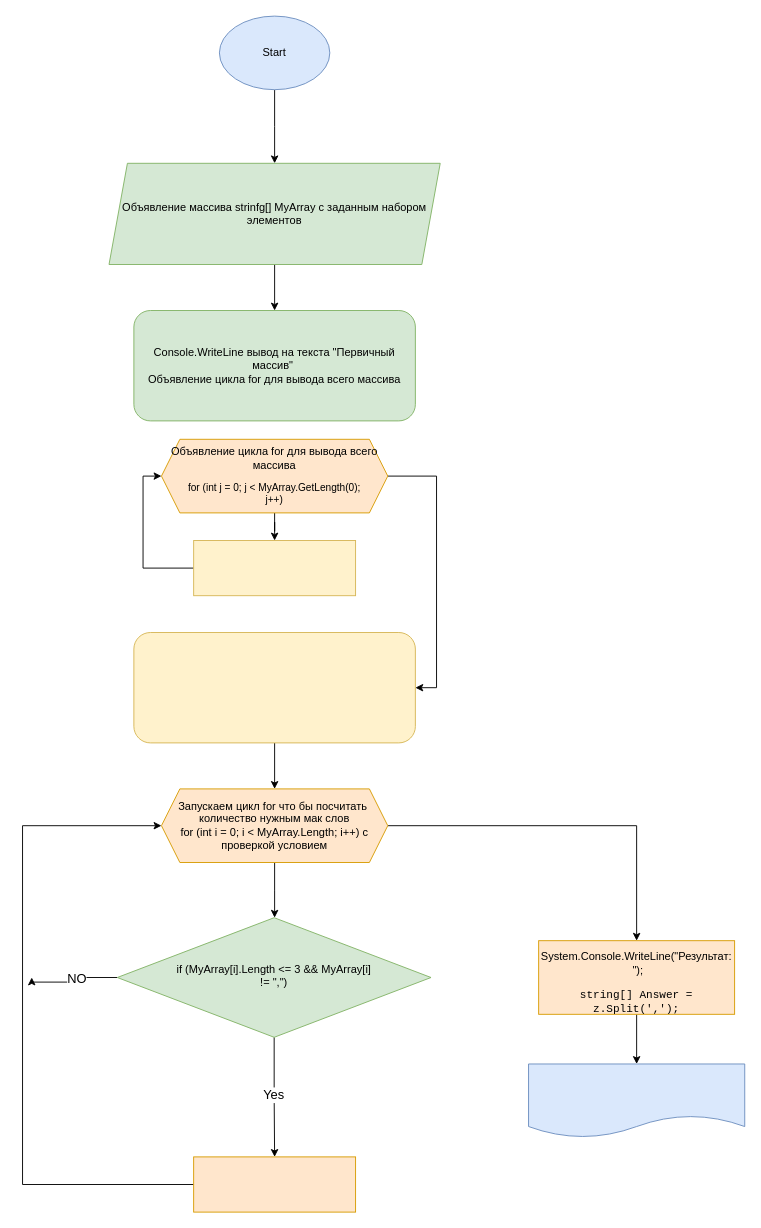
This 761x1228 diagram has some shape labels left out. Here are the shapes that lost their labels. From the top down, the centre of each, then its label:
pixel 274 568: Console.Write(MyArray[j] + ", ");
pixel 274 687: Объявление переменной int count = 0 Объявление переменной string z = ""
pixel 636 1100: Console.WriteLine(String.Join(",", Answer));
pixel 274 1184: z = z + MyArray[i] + " "; count++;
